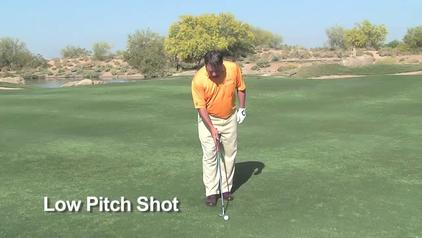stay: (193, 38, 243, 207)
